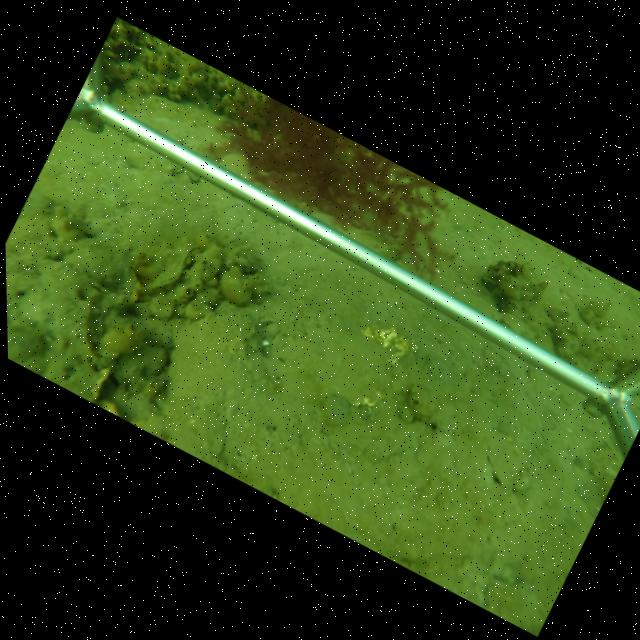Oyster-Closed: (137, 244, 206, 294)
